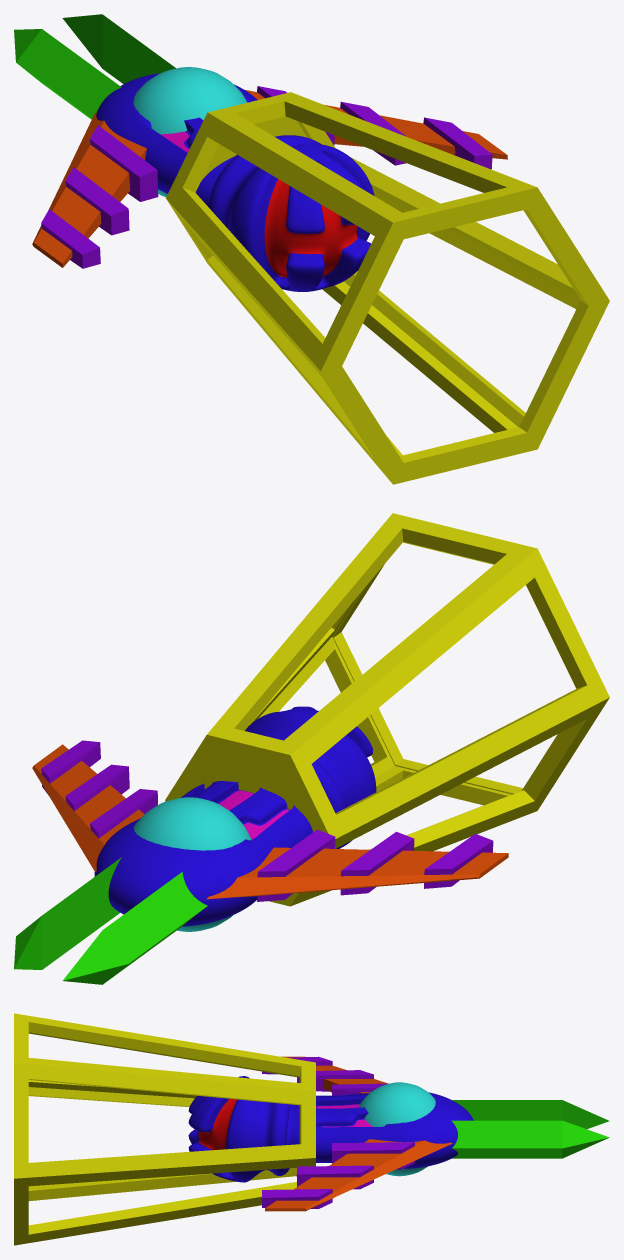
Rendered from player1high.fbx.
The picture shows the model from 3 angles, top to bottom: view 1: azimuth 30°, elevation 25°; view 2: azimuth 150°, elevation 25°; view 3: azimuth 270°, elevation 25°; orthographic projection. The views are drawn at different scales.
Visible parts, largest first — view 1: highfbx; view 2: highfbx; view 3: highfbx.
Boxes of the visible parts, bbox=[...] form: highfbx: bbox=[14, 14, 609, 484]; highfbx: bbox=[14, 513, 609, 984]; highfbx: bbox=[14, 1013, 609, 1245].
Size of the model in its own units: 486 by 272 by 804.
